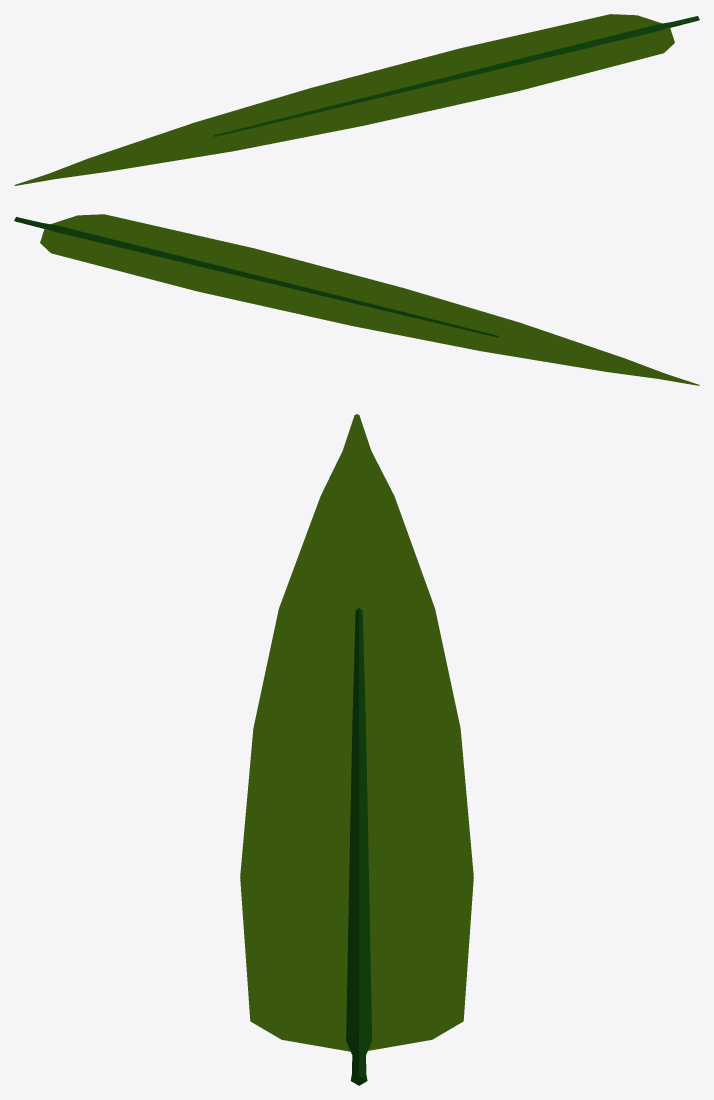
Rendered from BambooLeafDv1.fbx.
The picture shows the model from 3 angles, top to bottom: view 1: azimuth 30°, elevation 25°; view 2: azimuth 150°, elevation 25°; view 3: azimuth 270°, elevation 25°; orthographic projection. The views are drawn at different scales.
Parts seen in each view (by area): view 1: Cube.029; view 2: Cube.029; view 3: Cube.029.
Boxes of the visible parts, <box> form: Cube.029: <box>14,14,699,185</box>; Cube.029: <box>14,214,699,385</box>; Cube.029: <box>240,414,473,1085</box>.
Size of the model in its own units: 18.55 by 0.2004 by 2.75.
